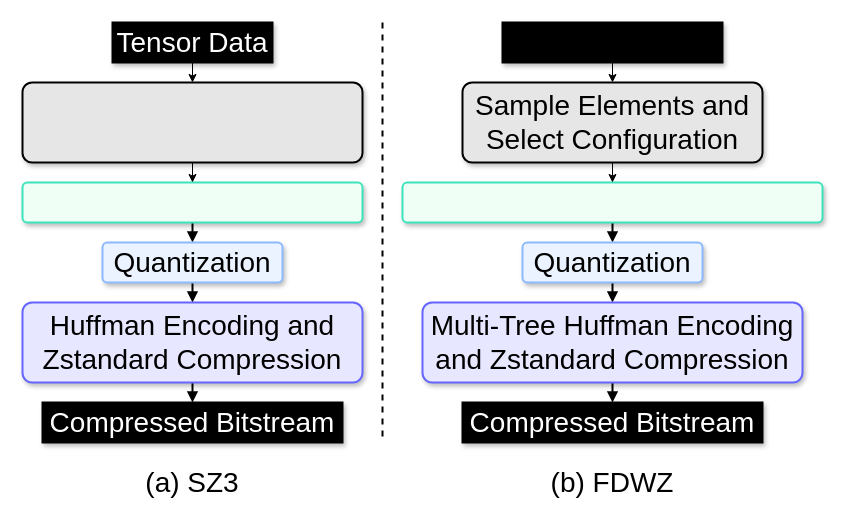
Some shapes in this 846 by 526 pixel diagram are drawn without their labels. Each missing label, with the centre of its shape:
"Distance-Weighted Interpolation" belongs at (613,203).
"Partitioned Data" belongs at (613,43).
"Sample Blocks of Data and Select Configuration" belongs at (193,123).
"Uniform-Grid Interpolation" belongs at (193,203).
